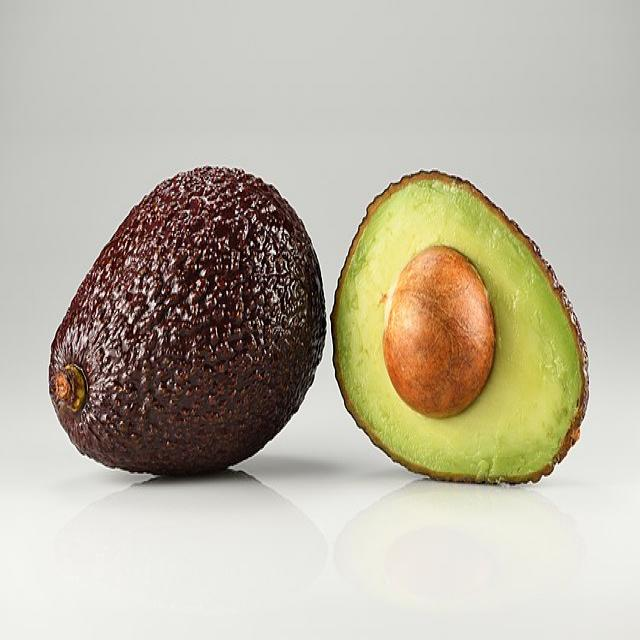avocado: (44, 166, 326, 474), (329, 169, 589, 489)
